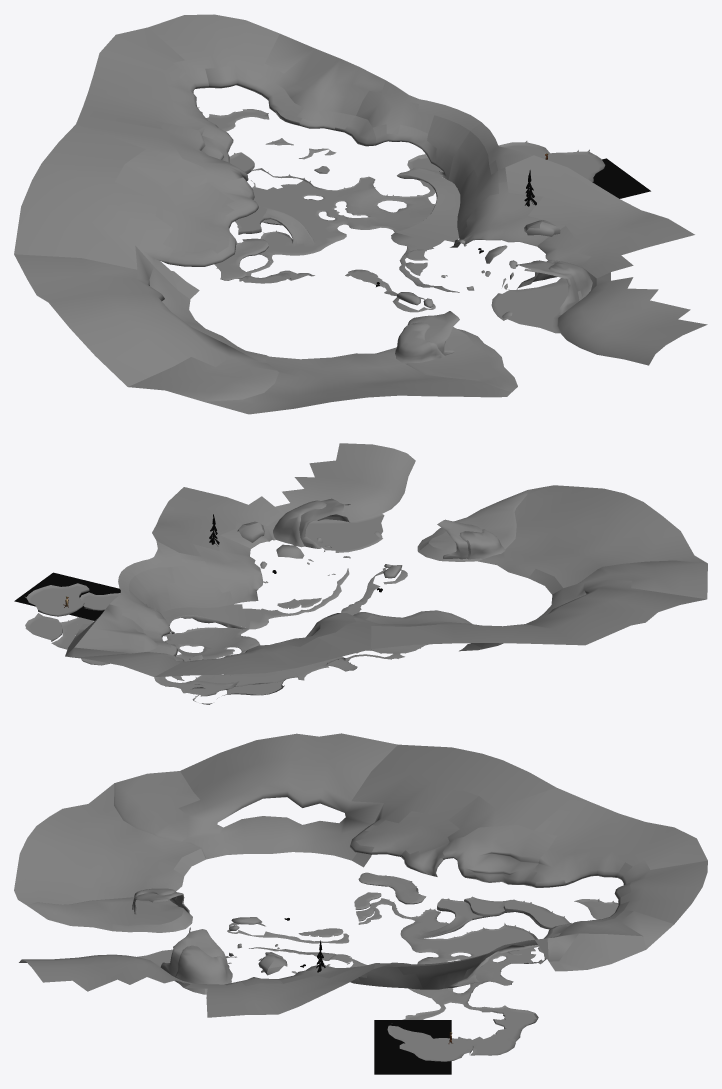
The model's file is Buck.obj.
3 views of the same model, one above another, from view 1: azimuth 30°, elevation 25°; view 2: azimuth 150°, elevation 25°; view 3: azimuth 270°, elevation 25° (orthographic). The views are drawn at different scales.
Visible parts, largest first — view 1: transform1, pPlane1; view 2: transform1, pPlane1; view 3: transform1, pPlane1.
Part boxes in pixels (x1,y1,x2,y2): transform1: [14, 14, 707, 414]; pPlane1: [592, 158, 650, 198]; transform1: [25, 443, 707, 704]; pPlane1: [14, 572, 120, 620]; transform1: [14, 733, 707, 1061]; pPlane1: [374, 1020, 451, 1074].
Bounding box in the file's own units: 1007 × 162 × 1081.
Materials: 8 (2 with a texture image).
